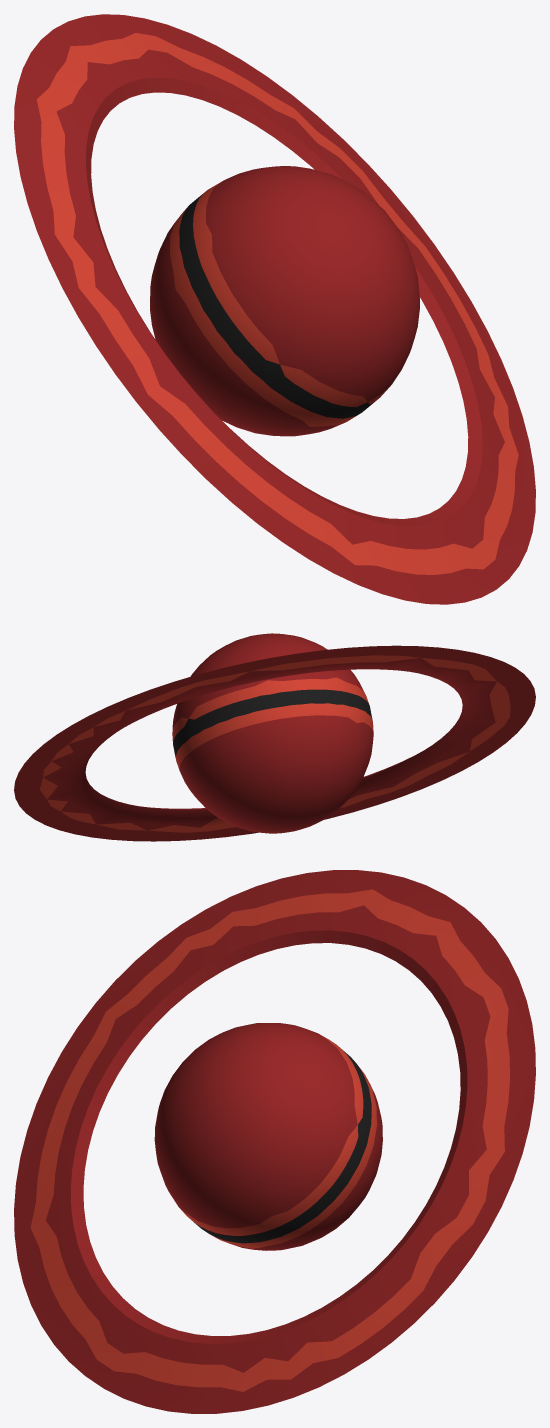
Rendered from Planet 10.glb.
3 renders of one model, top to bottom at view 1: azimuth 30°, elevation 25°; view 2: azimuth 150°, elevation 25°; view 3: azimuth 270°, elevation 25°, orthographic. The views are drawn at different scales.
Visible parts, largest first — view 1: Planet_10; view 2: Planet_10; view 3: Planet_10.
Boxes of the visible parts, x1,y1,x2,y2 form: Planet_10: (14, 14, 535, 604); Planet_10: (14, 633, 535, 841); Planet_10: (14, 870, 535, 1413).
Size of the model in its own units: 5.74 by 4.68 by 5.74.
Materials: 1 (1 with a texture image).
